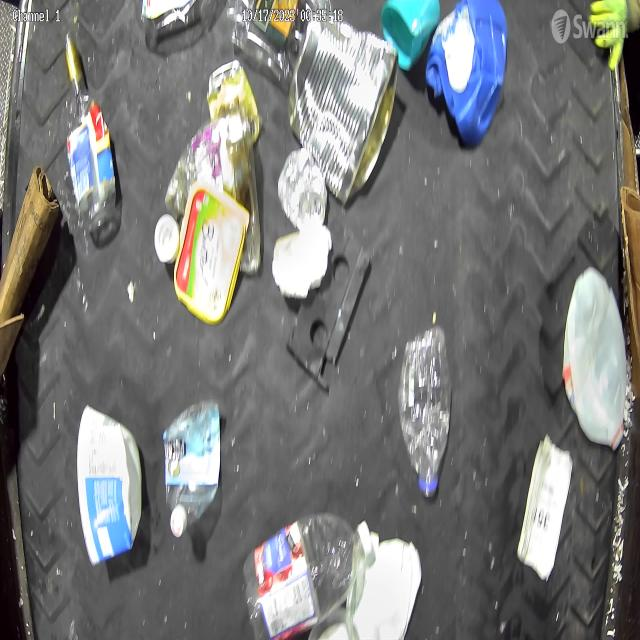milk-jug: (566, 263, 628, 458)
